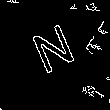N_NW: (26, 9, 79, 72)
